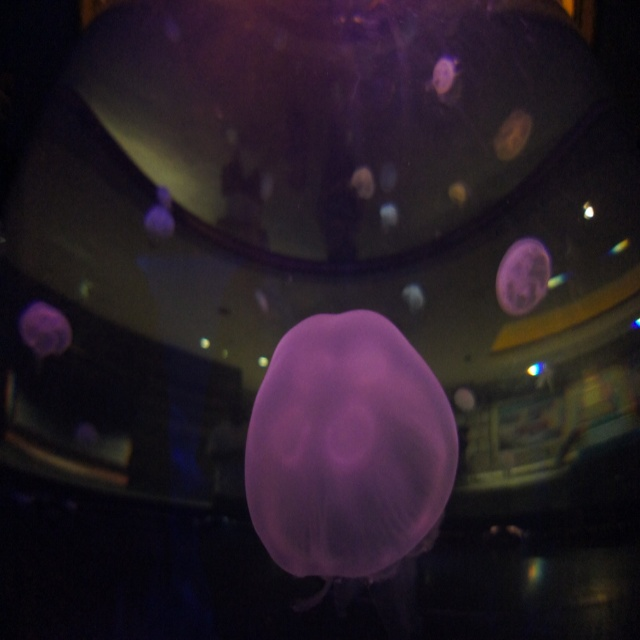Jellyfish: (244, 308, 459, 577), (496, 241, 552, 317), (19, 304, 72, 362)
